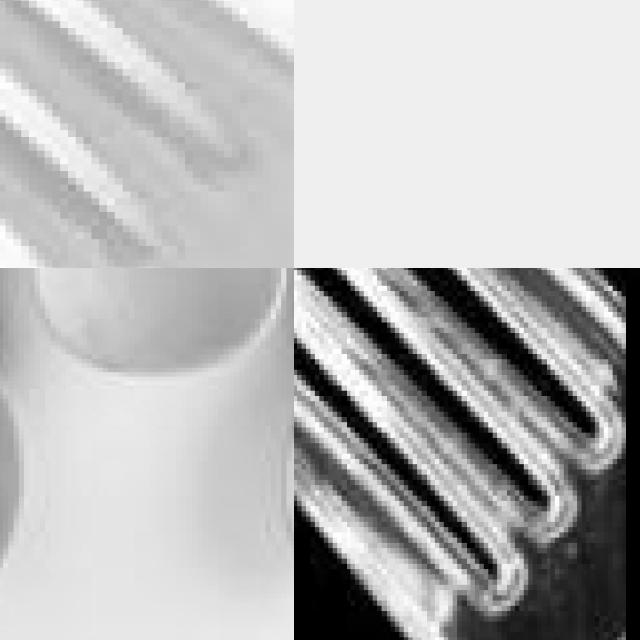forks: (294, 268, 637, 640), (0, 0, 294, 268)
